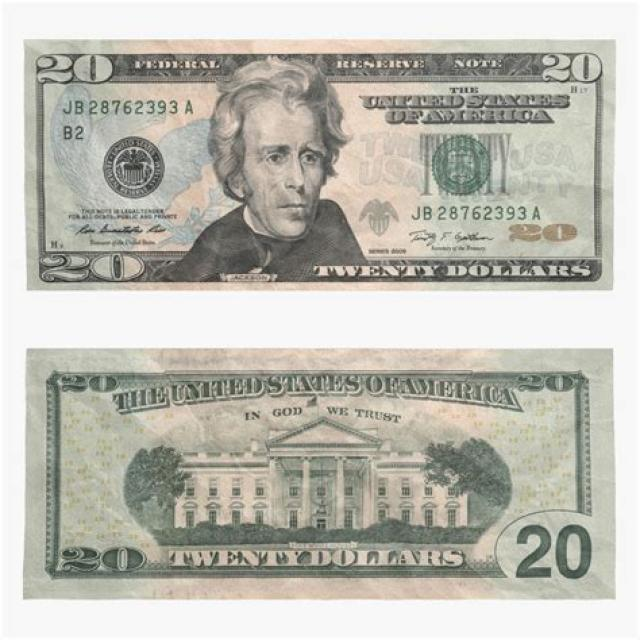Twenty: (21, 348, 614, 600), (25, 40, 617, 292)
